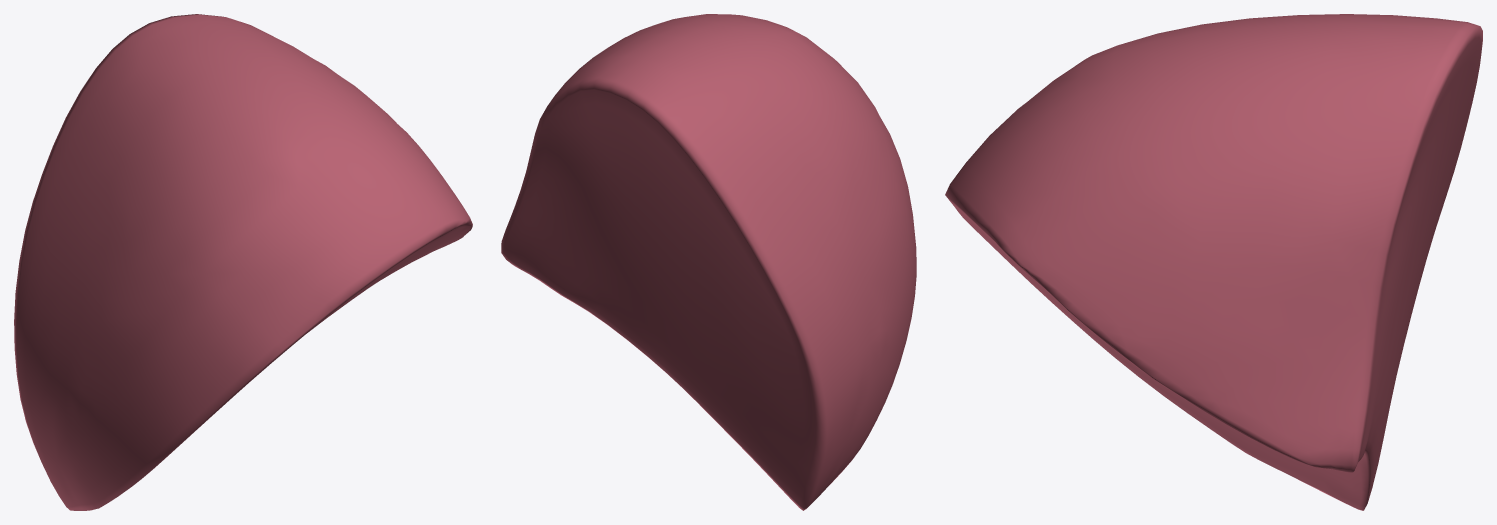
3 renders of one model, left to right at view 1: azimuth 30°, elevation 25°; view 2: azimuth 150°, elevation 25°; view 3: azimuth 270°, elevation 25°, orthographic. The views are drawn at different scales.
Parts seen in each view (by area): view 1: 肝右后叶上段（第7段）; view 2: 肝右后叶上段（第7段）; view 3: 肝右后叶上段（第7段）.
Part boxes in pixels (x1,y1,x2,y2): 肝右后叶上段（第7段）: (14,14,472,510); 肝右后叶上段（第7段）: (501,14,916,510); 肝右后叶上段（第7段）: (945,14,1482,510).
Size of the model in its own units: 0.1373 by 0.1568 by 0.1326.
